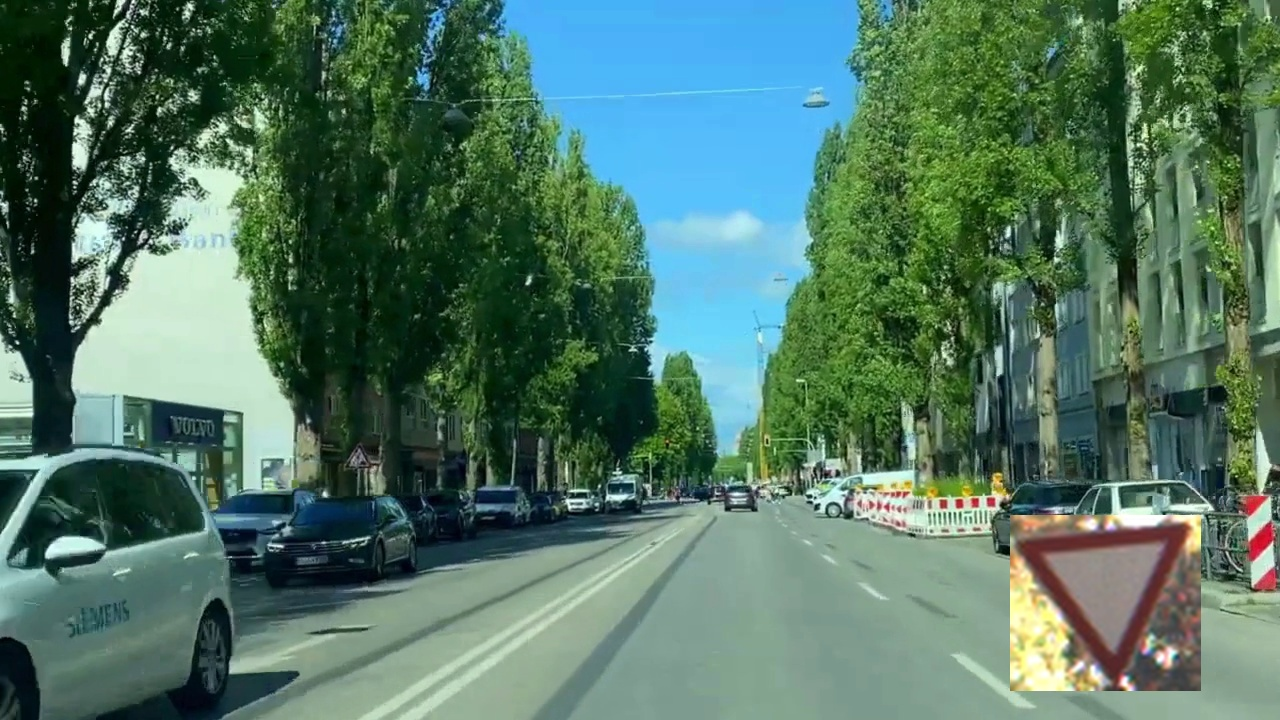Yield: (1010, 515, 1201, 691)
